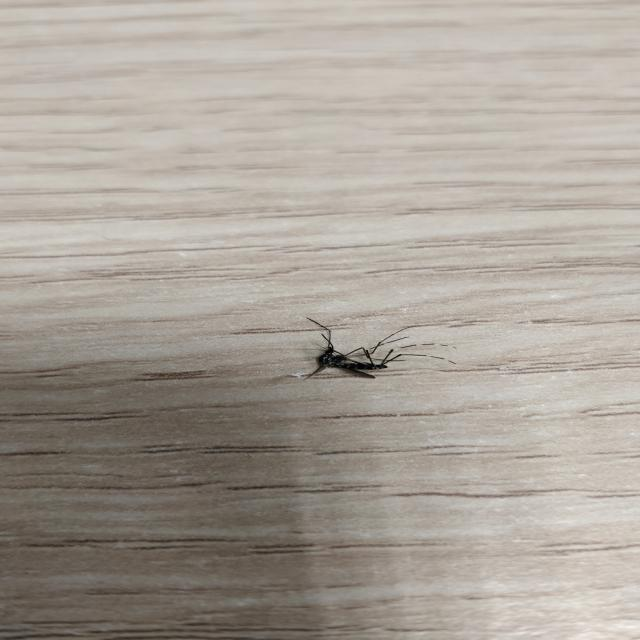albopictus: (274, 316, 460, 384)
